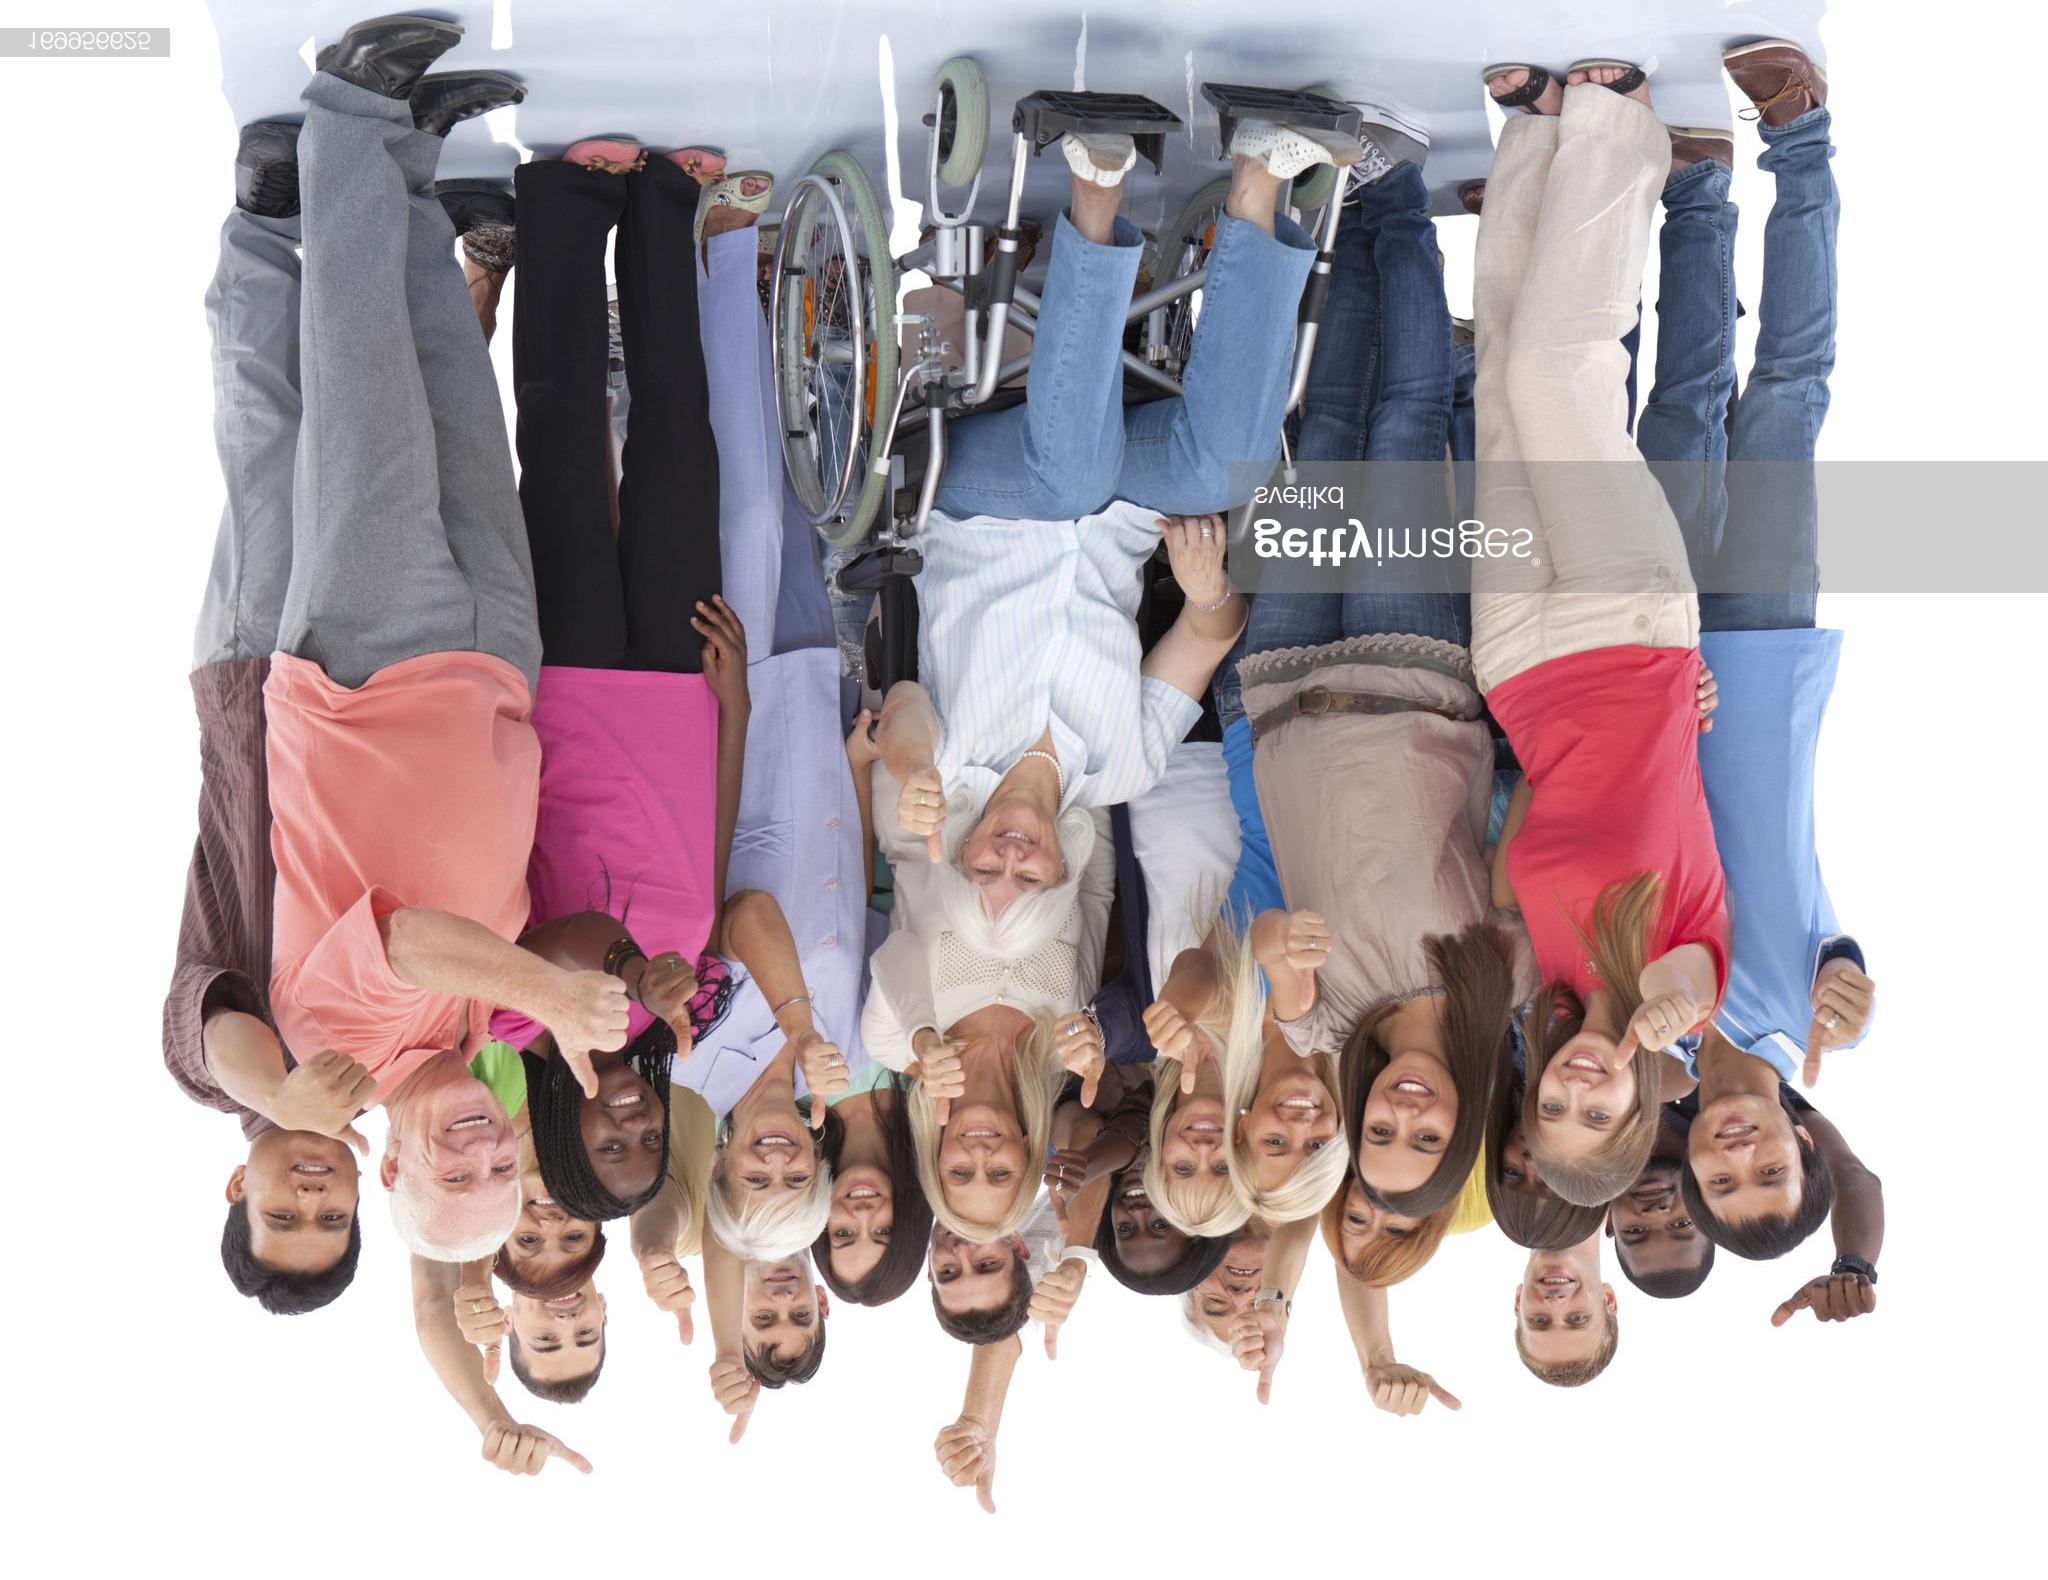thumbsdown: (1802, 968, 1877, 1089), (566, 971, 631, 1100), (302, 1047, 378, 1157), (1612, 991, 1699, 1070), (1768, 1271, 1877, 1329), (644, 949, 699, 1061), (481, 1426, 594, 1477), (933, 1426, 997, 1514), (639, 1250, 695, 1346), (453, 1285, 506, 1386), (1142, 1001, 1198, 1094), (1052, 1011, 1104, 1109), (895, 770, 948, 865), (1285, 909, 1333, 1012), (1026, 1270, 1077, 1359), (1369, 1369, 1464, 1417), (1226, 1313, 1275, 1406), (802, 1041, 851, 1130), (707, 1359, 757, 1444), (1042, 1148, 1089, 1238), (919, 1044, 966, 1125)
